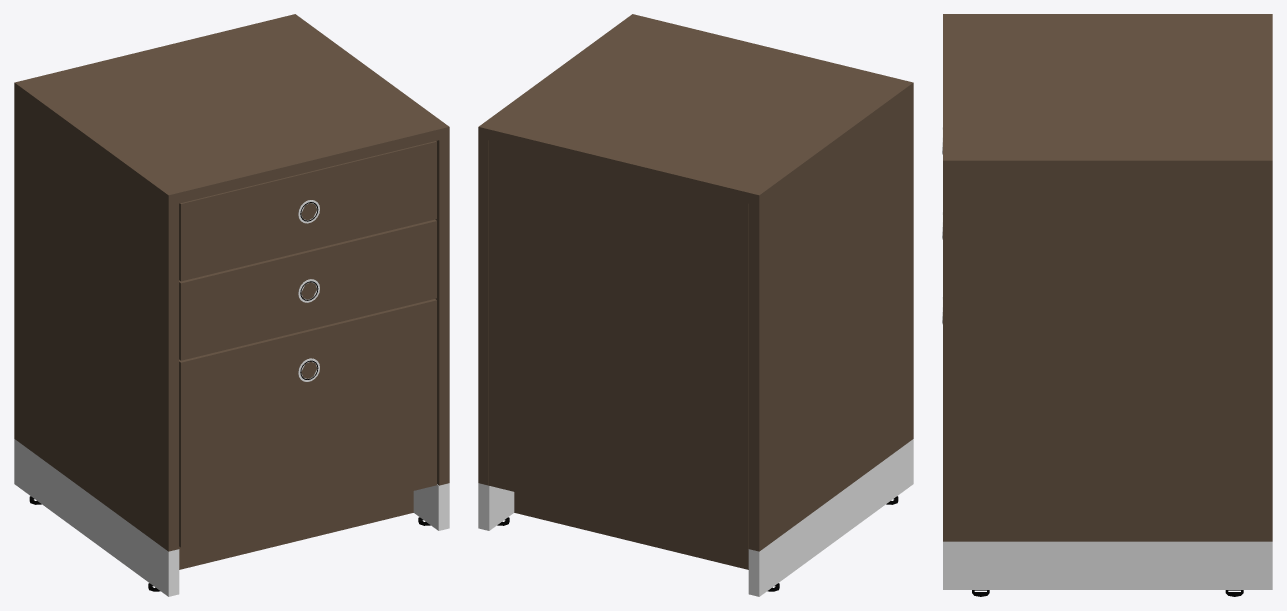
The model's file is HMI_Sled_Base_Pedestal_3D.fbx.
3 views of the same model, side by side, from view 1: azimuth 30°, elevation 25°; view 2: azimuth 150°, elevation 25°; view 3: azimuth 270°, elevation 25° (orthographic). The views are drawn at different scales.
Parts seen in each view (by area): view 1: Mesh1; view 2: Mesh1; view 3: Mesh1.
Boxes of the visible parts, left/top/right/bottom form: Mesh1: left=14, top=14, right=449, bottom=596; Mesh1: left=478, top=14, right=913, bottom=596; Mesh1: left=942, top=14, right=1272, bottom=596.
Size of the model in its own units: 19.72 by 26.97 by 18.53.
